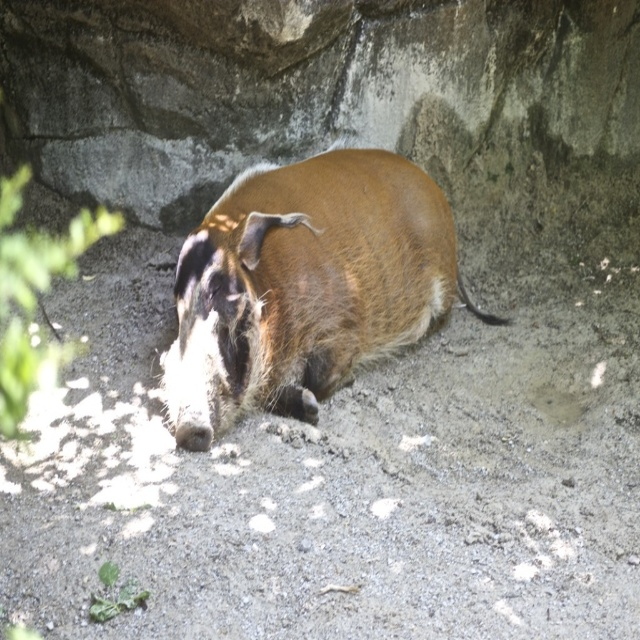Pig: (154, 138, 516, 452)
